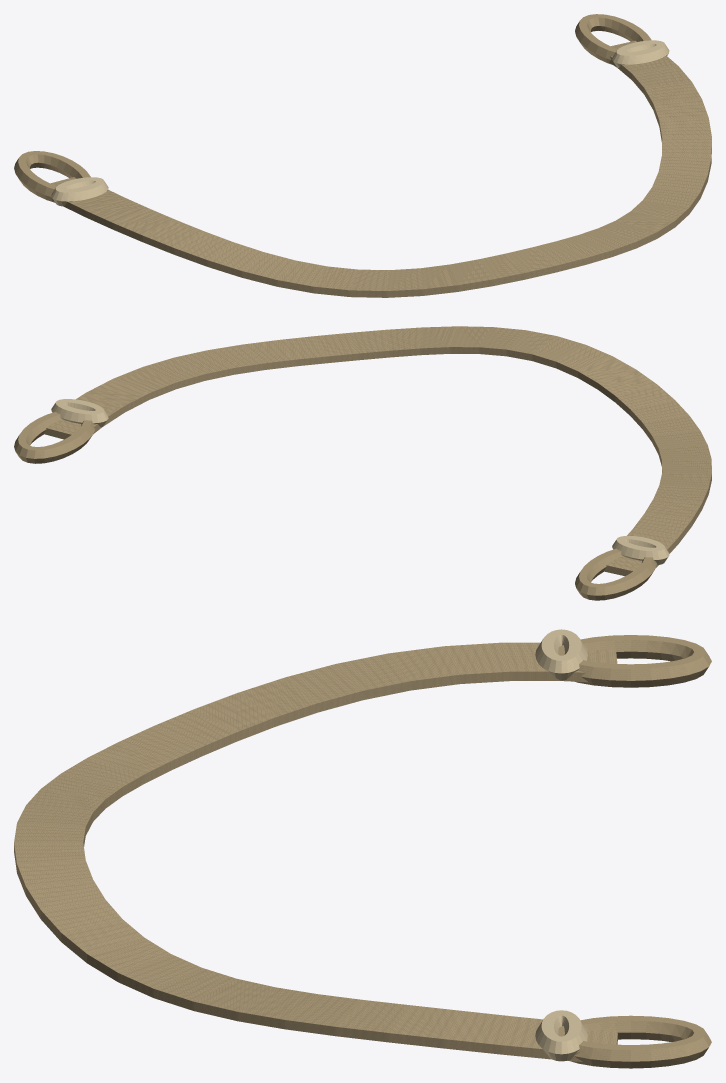
File: B47ANCEDEyewearClothRetainerGround.fbx
The picture shows the model from 3 angles, top to bottom: view 1: azimuth 30°, elevation 25°; view 2: azimuth 150°, elevation 25°; view 3: azimuth 270°, elevation 25°; orthographic projection. The views are drawn at different scales.
Parts seen in each view (by area): view 1: B47ANCEDEyewearClothRetainerGround; view 2: B47ANCEDEyewearClothRetainerGround; view 3: B47ANCEDEyewearClothRetainerGround.
Boxes of the visible parts, box(x1,y1,x2,y2) form: B47ANCEDEyewearClothRetainerGround: box(14, 14, 711, 297); B47ANCEDEyewearClothRetainerGround: box(14, 326, 711, 600); B47ANCEDEyewearClothRetainerGround: box(14, 629, 711, 1068).
Size of the model in its own units: 0.1434 by 0.00499 by 0.1007.
